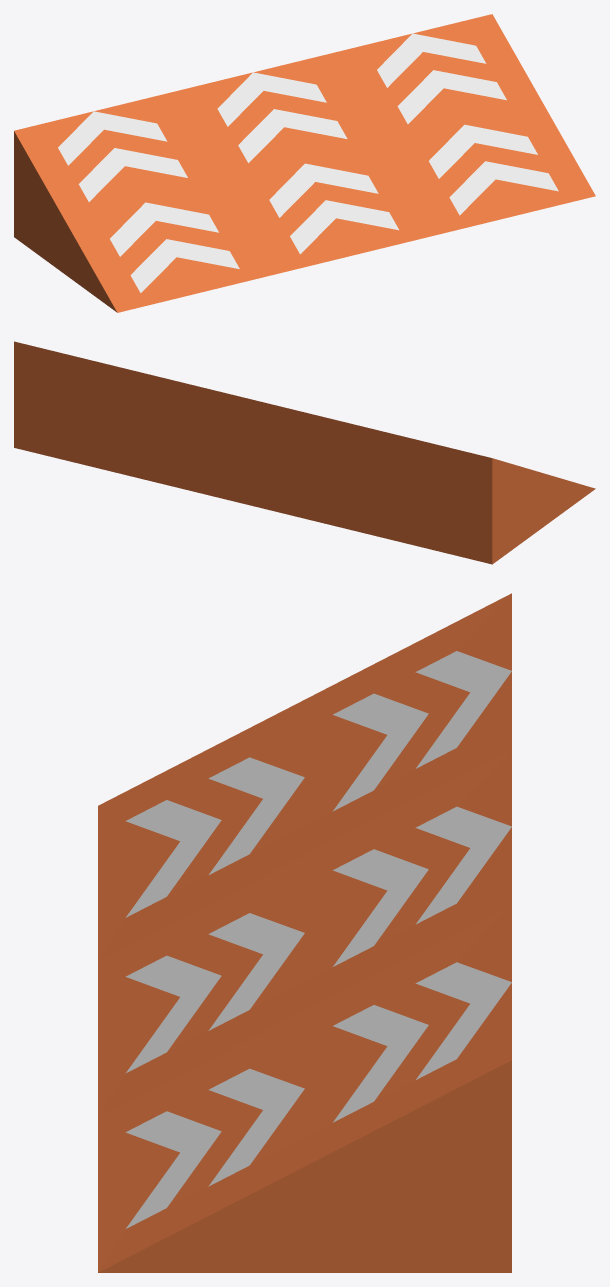
File: SpringboardModel.fbx
3 renders of one model, top to bottom at view 1: azimuth 30°, elevation 25°; view 2: azimuth 150°, elevation 25°; view 3: azimuth 270°, elevation 25°, orthographic. The views are drawn at different scales.
Visible parts, largest first — view 1: SpringboardModel; view 2: SpringboardModel; view 3: SpringboardModel.
Part boxes in pixels (x1,y1,x2,y2): SpringboardModel: [14, 14, 595, 312]; SpringboardModel: [14, 341, 595, 564]; SpringboardModel: [98, 593, 511, 1272].
Bounding box in the file's own units: 800 × 170 × 300.
